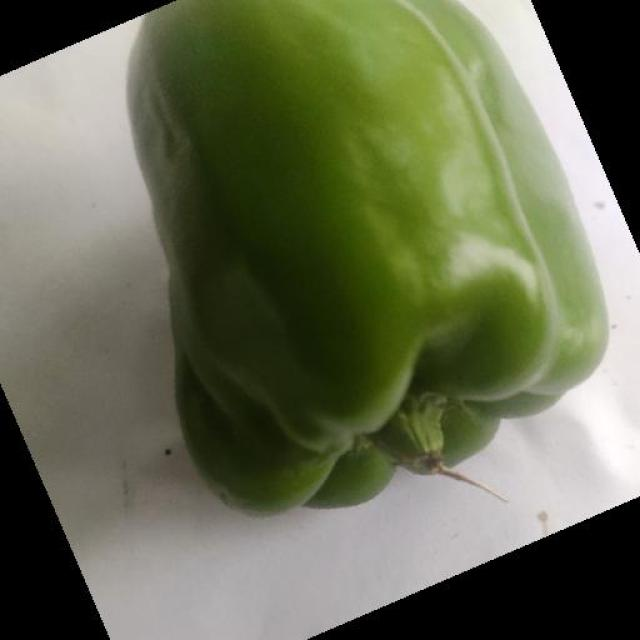Stale_Capsicum: (82, 0, 329, 547)
